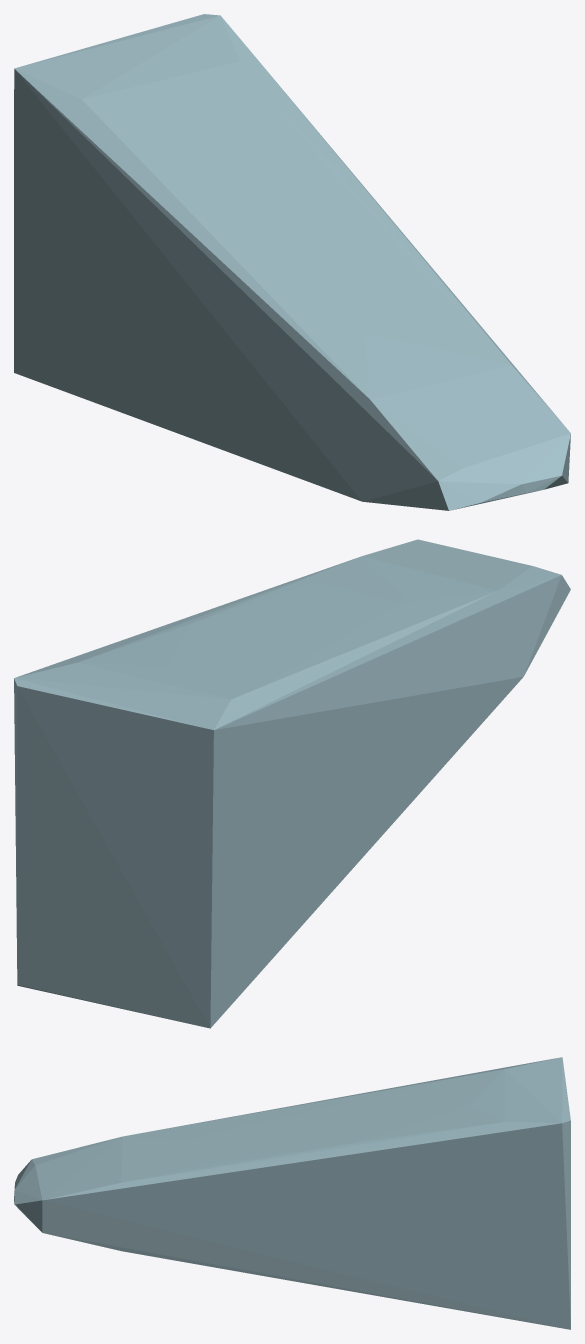
File: sign_warning_a04.glb
3 views of the same model, one above another, from view 1: azimuth 30°, elevation 25°; view 2: azimuth 150°, elevation 25°; view 3: azimuth 270°, elevation 25° (orthographic). The views are drawn at different scales.
Parts seen in each view (by area): view 1: geometry_0; view 2: geometry_0; view 3: geometry_0.
Boxes of the visible parts, x1=… form: geometry_0: x1=14, y1=14, x2=570, y2=510; geometry_0: x1=14, y1=539, x2=570, y2=1028; geometry_0: x1=14, y1=1057, x2=570, y2=1329.
Bounding box in the file's own units: 0.1391 × 0.1996 × 0.48.
